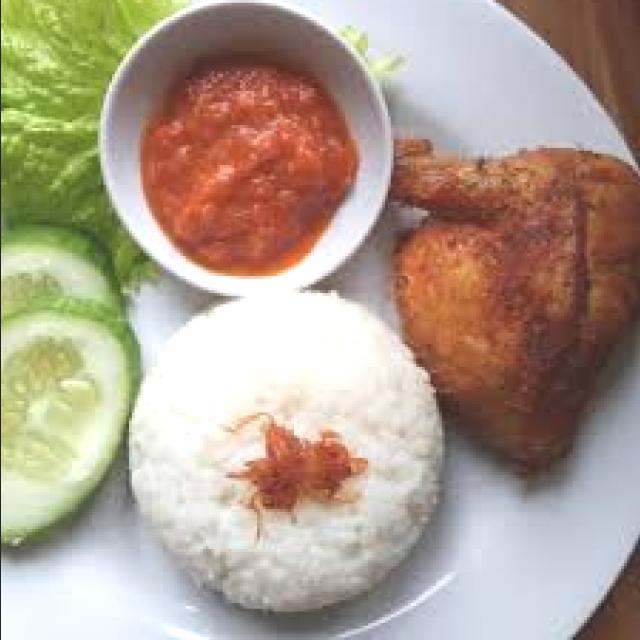ayam goreng: (387, 134, 640, 484)
nasi: (125, 290, 444, 612)
